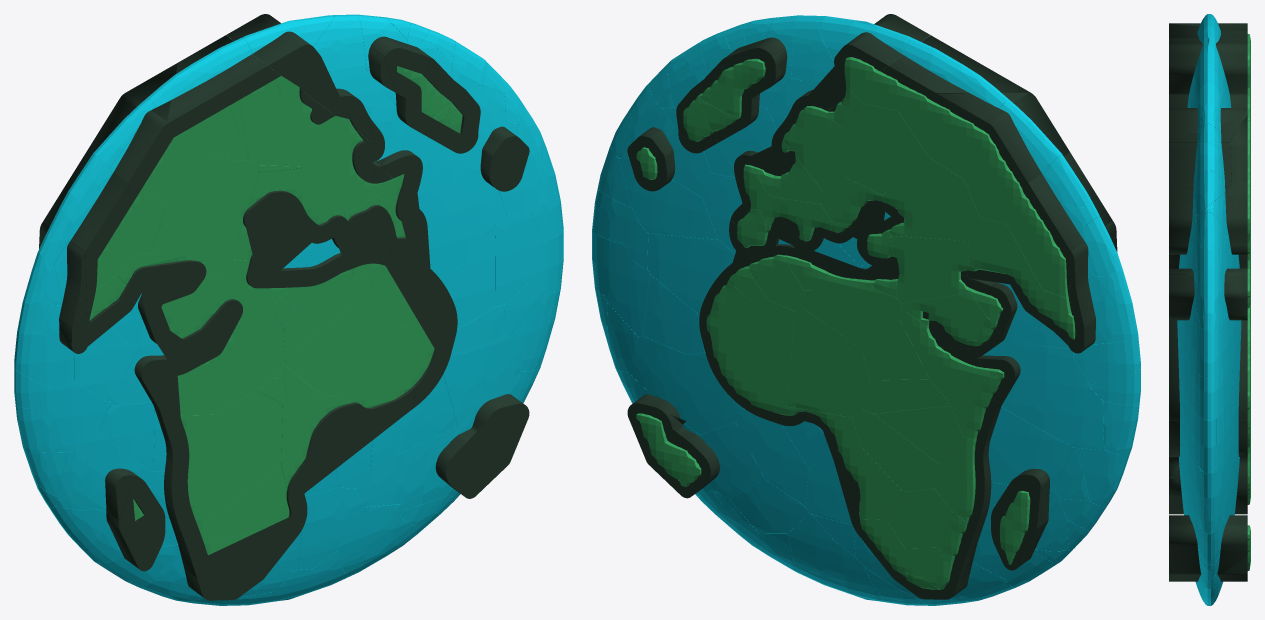
Rendered from Earth.fbx.
The picture shows the model from 3 angles, left to right: view 1: azimuth 30°, elevation 25°; view 2: azimuth 150°, elevation 25°; view 3: azimuth 270°, elevation 25°; orthographic projection. The views are drawn at different scales.
Parts seen in each view (by area): view 1: Green_cell.083, Green_cell.091, Green_cell.028, Black_cell.023, Black_cell.024, Black_cell.018, Green_cell.016, Black_cell.033, Black_cell.015, Green_cell.045, Black_cell.062, Black_cell.077 (+94 smaller); view 2: Green_cell.051, Green_cell.062, Sea_cell.132, Green_cell.067, Green_cell.077, Green_cell.072, Sea_cell.105, Green_cell.029, Green_cell.012, Sea_cell.046, Sea_cell.082, Green_cell.022 (+97 smaller); view 3: Black_cell.018, Black_cell.040, Black_cell.023, Black_cell.002, Sea_cell, Black_cell.008, Black_cell.049, Sea_cell.089, Sea_cell.100, Sea_cell.011, Black_cell.065, Black_cell.006 (+55 smaller).
Part boxes in pixels (x1,y1,x2,y2): Green_cell.083: (151,159,259,278); Green_cell.091: (285,289,398,396); Green_cell.028: (184,272,285,391); Black_cell.023: (385,192,457,350); Black_cell.024: (184,501,307,600); Black_cell.018: (226,14,375,144); Green_cell.016: (187,391,279,514); Black_cell.033: (286,389,415,507); Black_cell.015: (243,190,324,288); Green_cell.045: (340,319,434,407); Black_cell.062: (167,35,280,133); Black_cell.077: (435,395,528,498); Green_cell.051: (706,298,795,412); Green_cell.062: (787,308,869,417); Sea_cell.132: (1001,341,1089,447); Green_cell.067: (842,103,929,194); Green_cell.077: (882,158,979,240); Green_cell.072: (899,87,995,179); Sea_cell.105: (647,233,734,313); Green_cell.029: (891,235,971,303); Green_cell.012: (802,277,901,349); Sea_cell.046: (988,407,1073,489); Sea_cell.082: (663,351,740,434); Green_cell.022: (851,410,939,491); Black_cell.018: (1169,38,1247,107); Black_cell.040: (1169,515,1247,581); Black_cell.023: (1169,258,1247,420); Black_cell.002: (1169,108,1247,142); Sea_cell: (1192,361,1229,420); Black_cell.008: (1169,143,1231,186); Black_cell.049: (1225,182,1247,247); Sea_cell.089: (1193,329,1228,378); Sea_cell.100: (1194,282,1224,329); Sea_cell.011: (1197,415,1216,474); Black_cell.065: (1224,268,1247,320); Black_cell.006: (1169,187,1227,227).
Bounding box in the file's own units: 10.34 × 10.44 × 1.43.
